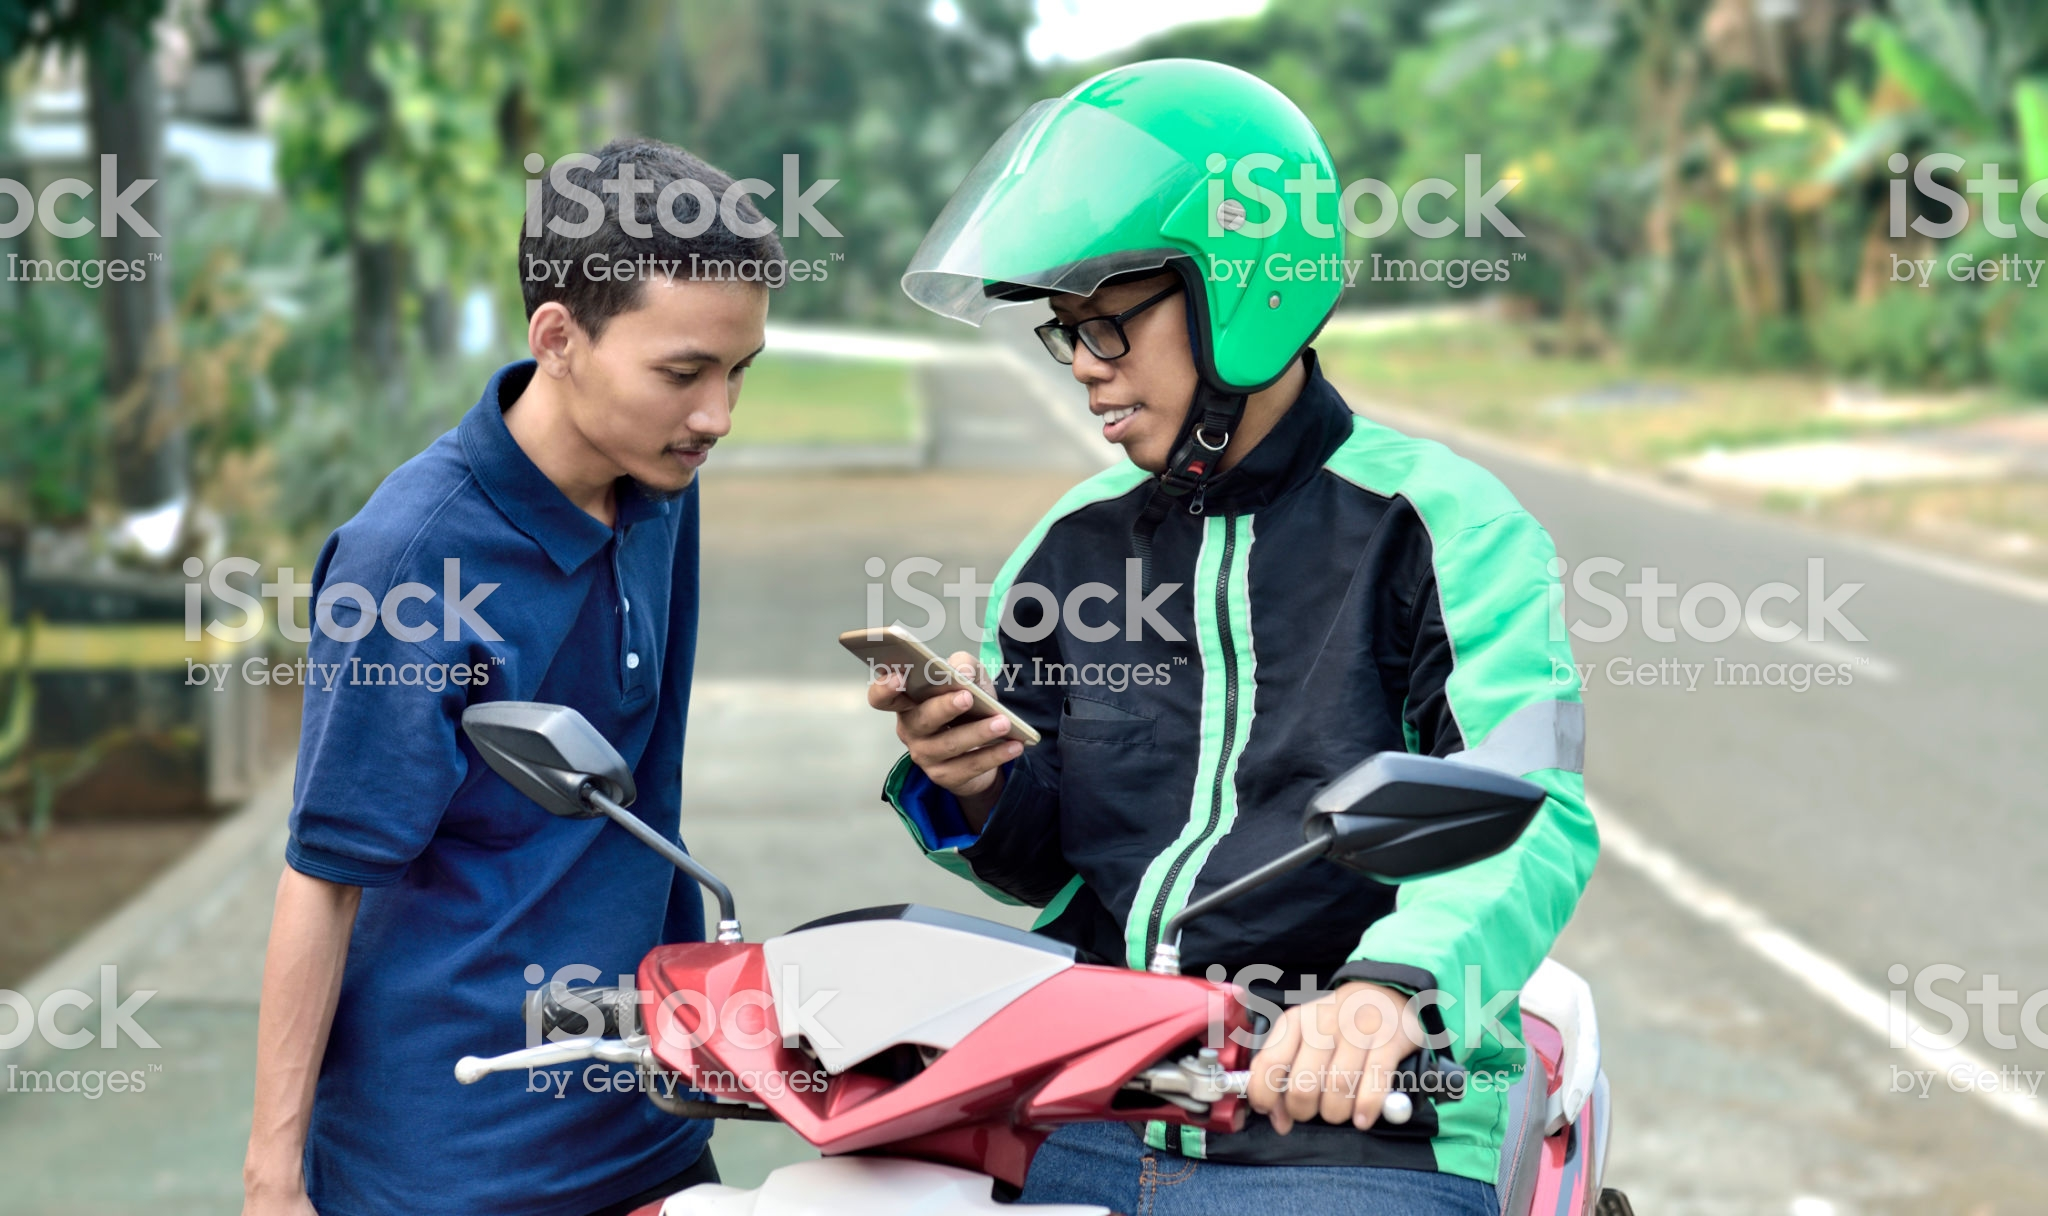helmet: (997, 64, 1346, 337)
